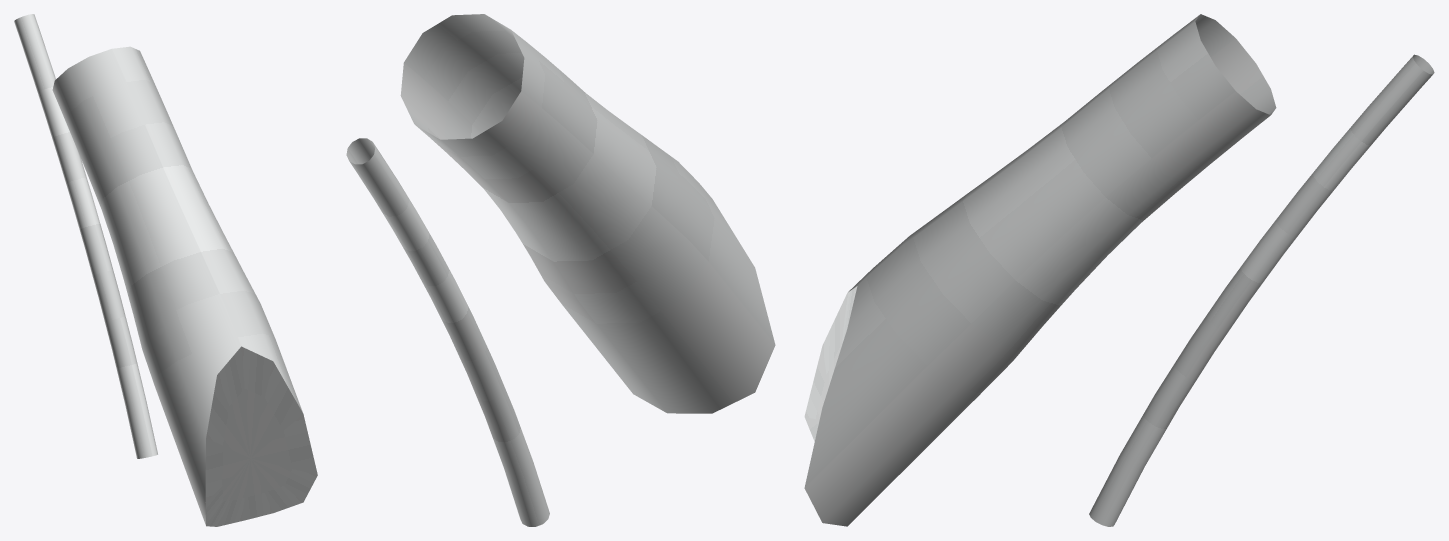
The model's file is luminairearm_laupsweep8ft_c0_pedestal.obj.
3 views of the same model, side by side, from view 1: azimuth 30°, elevation 25°; view 2: azimuth 150°, elevation 25°; view 3: azimuth 270°, elevation 25° (orthographic). The views are drawn at different scales.
Parts seen in each view (by area): view 1: luminairearm_laupsweep8ft_c0_pedestal; view 2: luminairearm_laupsweep8ft_c0_pedestal; view 3: luminairearm_laupsweep8ft_c0_pedestal.
Boxes of the visible parts, x1,y1,x2,y2 form: luminairearm_laupsweep8ft_c0_pedestal: (14, 14, 317, 526); luminairearm_laupsweep8ft_c0_pedestal: (346, 14, 775, 526); luminairearm_laupsweep8ft_c0_pedestal: (804, 14, 1434, 526).
Bounding box in the file's own units: 0.3375 × 1.11 × 1.26.
